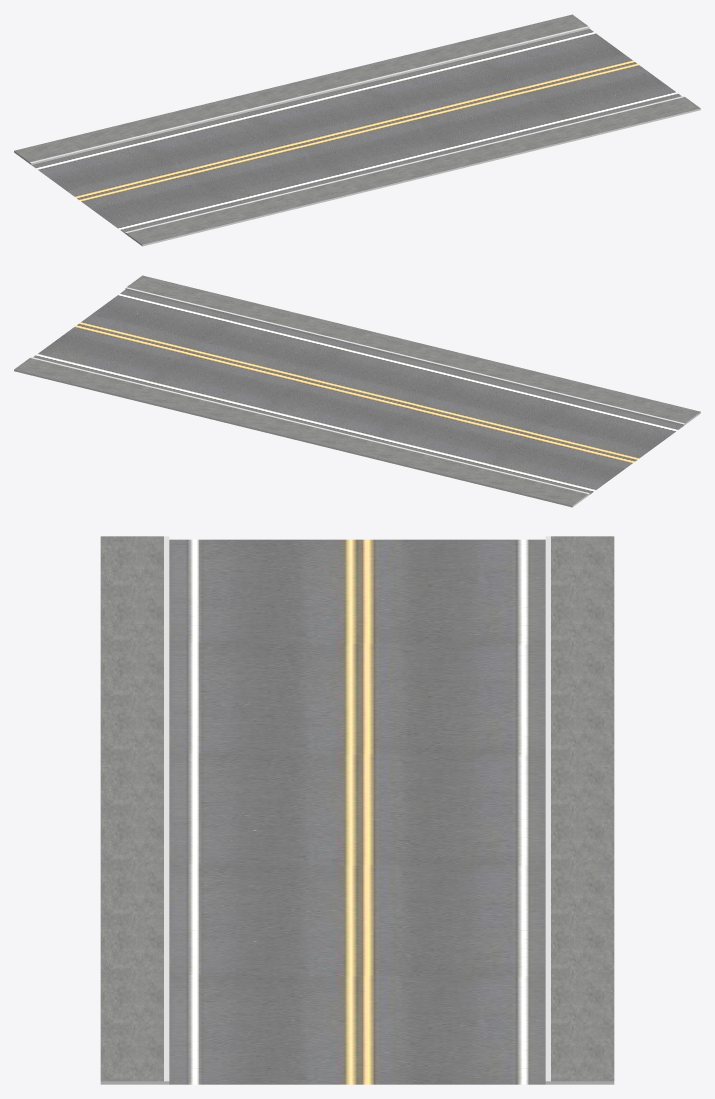
File: road.glb
3 views of the same model, one above another, from view 1: azimuth 30°, elevation 25°; view 2: azimuth 150°, elevation 25°; view 3: azimuth 270°, elevation 25° (orthographic). The views are drawn at different scales.
Parts seen in each view (by area): view 1: Plane; view 2: Plane; view 3: Plane.
Part boxes in pixels (x1,y1,x2,y2): Plane: (14,14,700,246); Plane: (14,275,700,507); Plane: (100,536,614,1084).
Size of the model in its own units: 104 by 0.3 by 41.6.
Materials: 5 (2 with a texture image).
